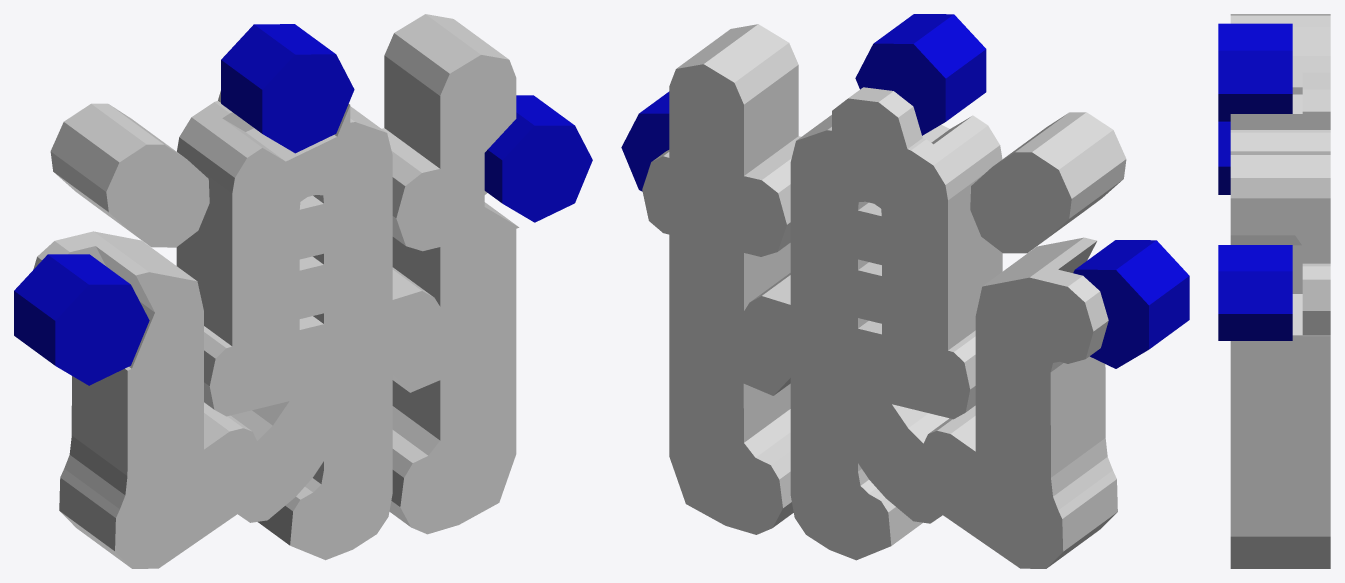
Rendered from Ch_Lite_China_谢_01.fbx.
3 renders of one model, left to right at view 1: azimuth 30°, elevation 25°; view 2: azimuth 150°, elevation 25°; view 3: azimuth 270°, elevation 25°, orthographic. The views are drawn at different scales.
Visible parts, largest first — view 1: sphere1; view 2: sphere1; view 3: sphere1.
Boxes of the visible parts, bbox=[...] form: sphere1: bbox=[14, 14, 592, 568]; sphere1: bbox=[621, 14, 1189, 568]; sphere1: bbox=[1218, 14, 1330, 568].
Bounding box in the file's own units: 1.11 × 1.03 × 0.2242.
